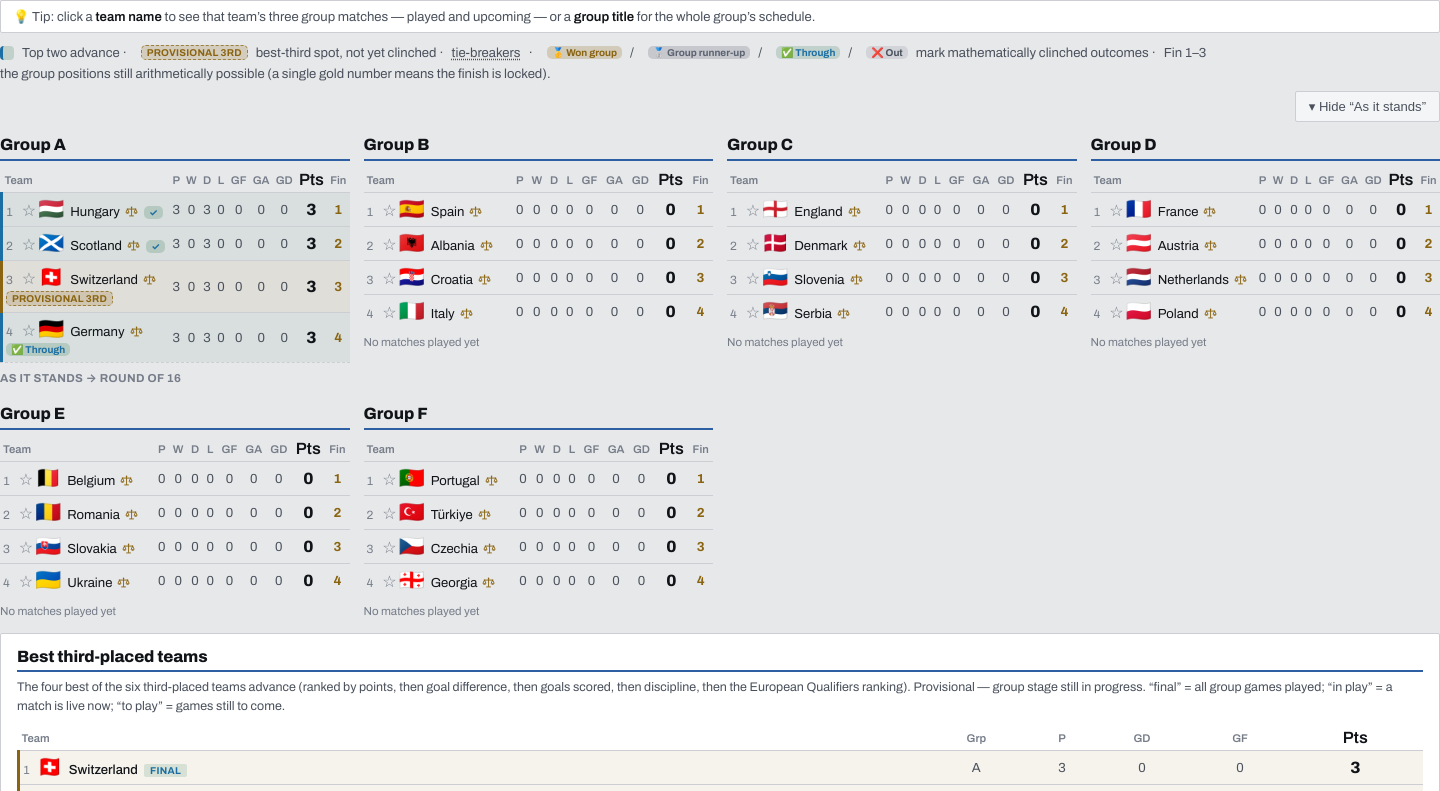
Test: Standings — what "as it stands" shows when the bracket cannot answer › offers a through team no matchup at all when neither source can name one
Check: the 7th text with class "rank" reads "4", box [6,325,13,339]
Click the button with class "row-team-btn" showing "Germany". click: click(97, 332)
box: [70,324,124,340]
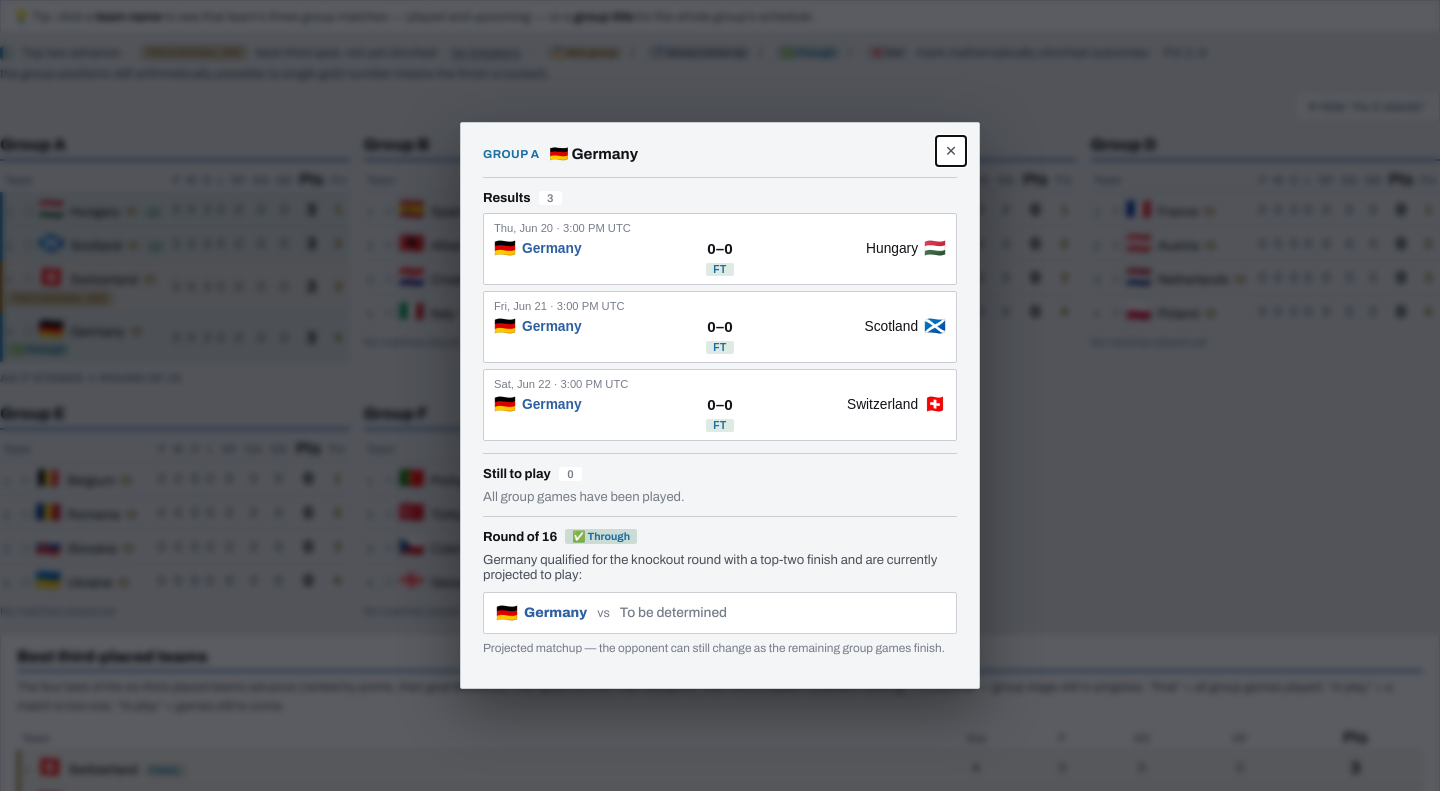
Check: the text with class "gg-ko-tbd" reads "To be determined", box [620,605,727,620]
